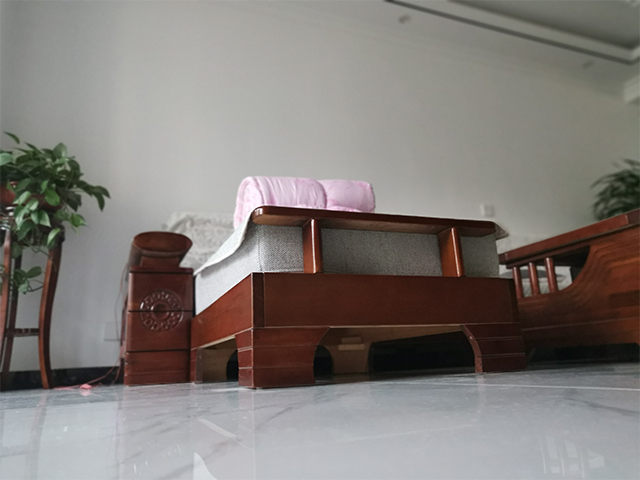sofa: (115, 204, 528, 391)
table: (496, 207, 640, 366)
wire: (53, 334, 121, 393)
